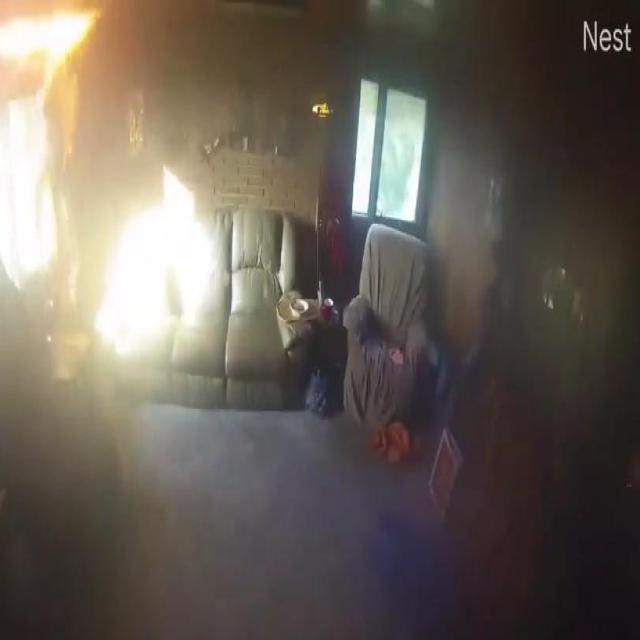smoke: (0, 8, 102, 81)
